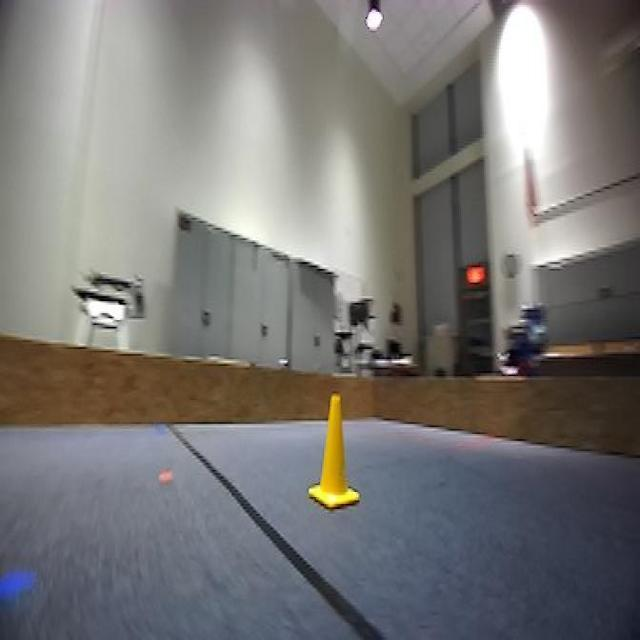frc_cone: (309, 393, 361, 512)
